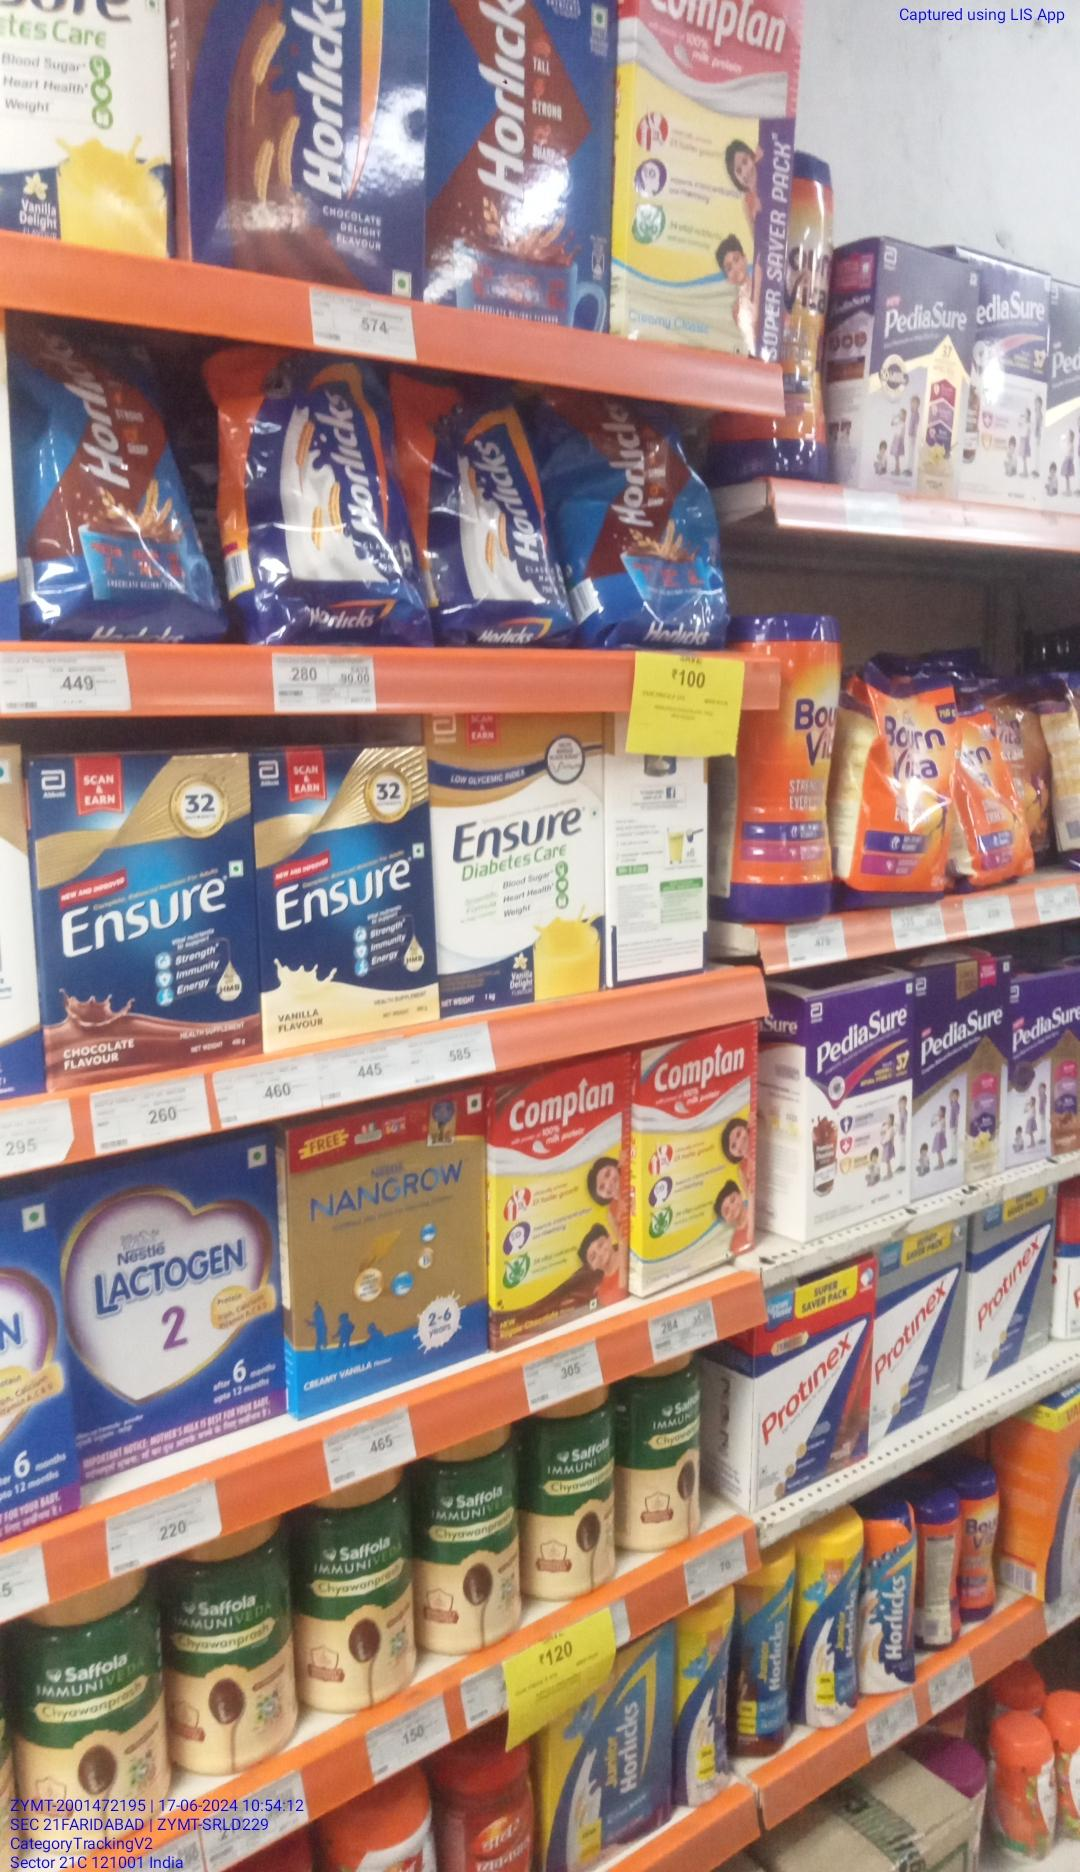COMPLAN_CREAMY_CLASSIC_500_G_PACK: (640, 1047, 756, 1292)
ENSURE_VANILLA_400_G_PACK: (257, 744, 429, 1043)
HORLICKS_JUNIOR_VANILLA_500_GM_JAR: (805, 1533, 864, 1728)
HORLICK_CHOCOLATE_750_G_POUCH: (13, 305, 206, 618), (561, 388, 717, 634)
HORLICK_CLASSIC_MALT_500_G_JAR: (869, 1511, 921, 1695)
HORLICK_CLASSIC_MALT_750_G_POUCH: (234, 342, 410, 625), (417, 377, 554, 638)
PEDIASURE_VANILLA_500_G_PACK: (917, 967, 1008, 1188)
